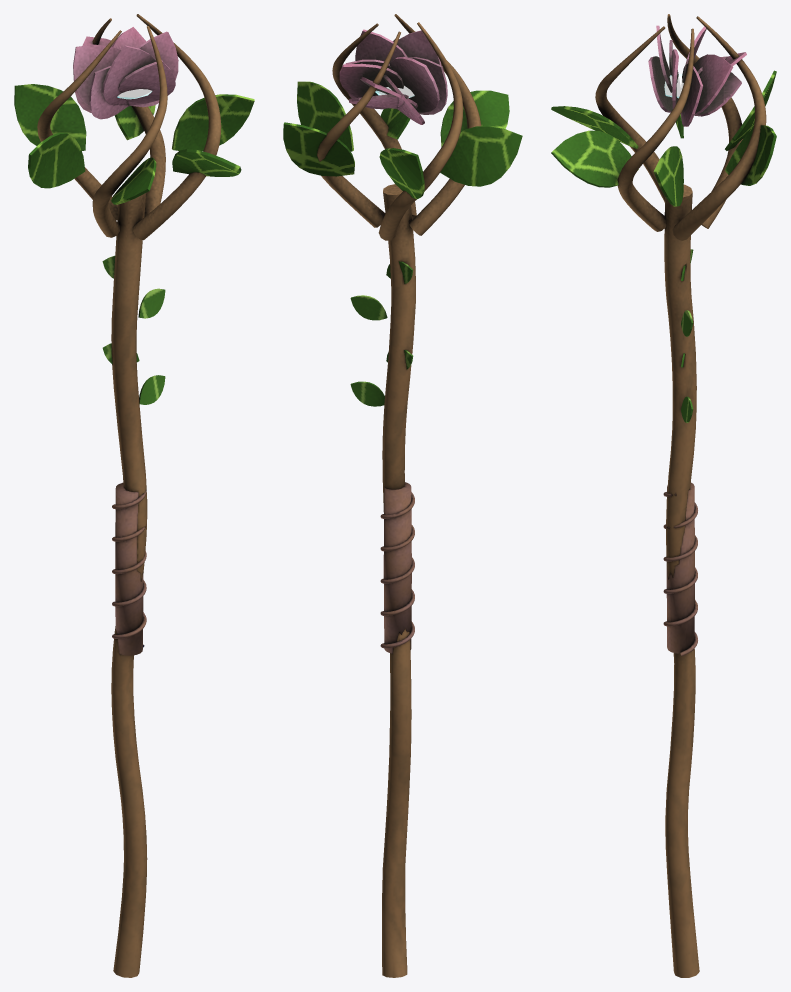
Rendered from arma_lend_foco_natural_sagrado.glb.
The picture shows the model from 3 angles, left to right: view 1: azimuth 30°, elevation 25°; view 2: azimuth 150°, elevation 25°; view 3: azimuth 270°, elevation 25°; orthographic projection.
Visible parts, largest first — view 1: arma_lend_foco_natural_sagrado; view 2: arma_lend_foco_natural_sagrado; view 3: arma_lend_foco_natural_sagrado.
Part boxes in pixels (x1,y1,x2,y2): arma_lend_foco_natural_sagrado: (14,14,254,977); arma_lend_foco_natural_sagrado: (283,14,522,977); arma_lend_foco_natural_sagrado: (551,14,776,977).
Size of the model in its own units: 0.4367 by 1.76 by 0.3793.
Materials: 2 (1 with a texture image).
